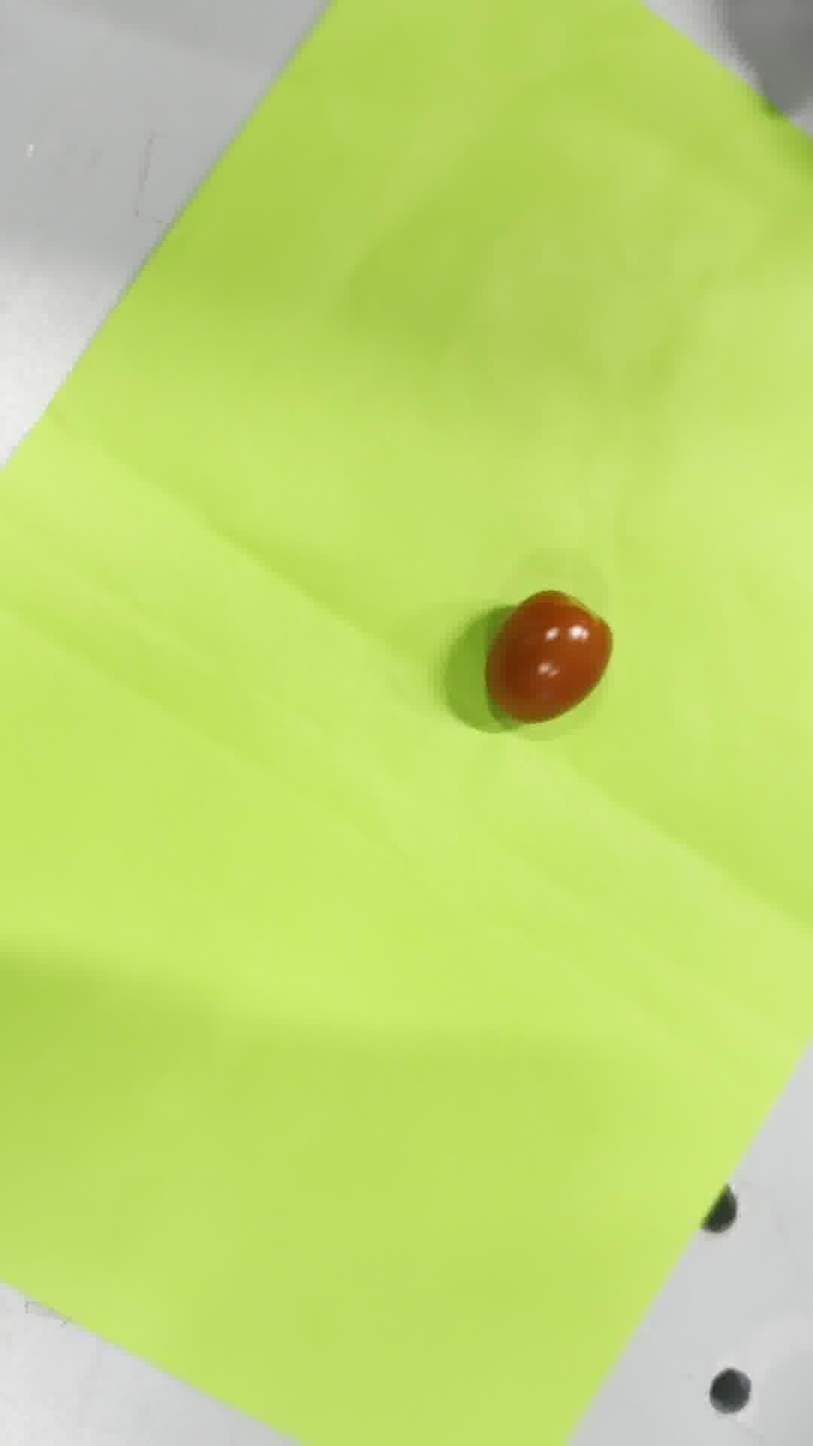red_cherry_tomato: (485, 590, 612, 723)
